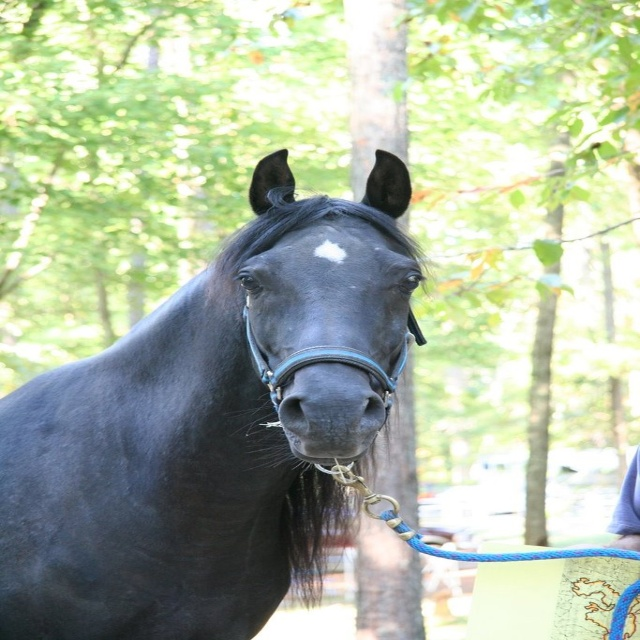Horse: (0, 148, 434, 639)
